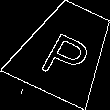P_NE: (35, 19, 96, 81)
